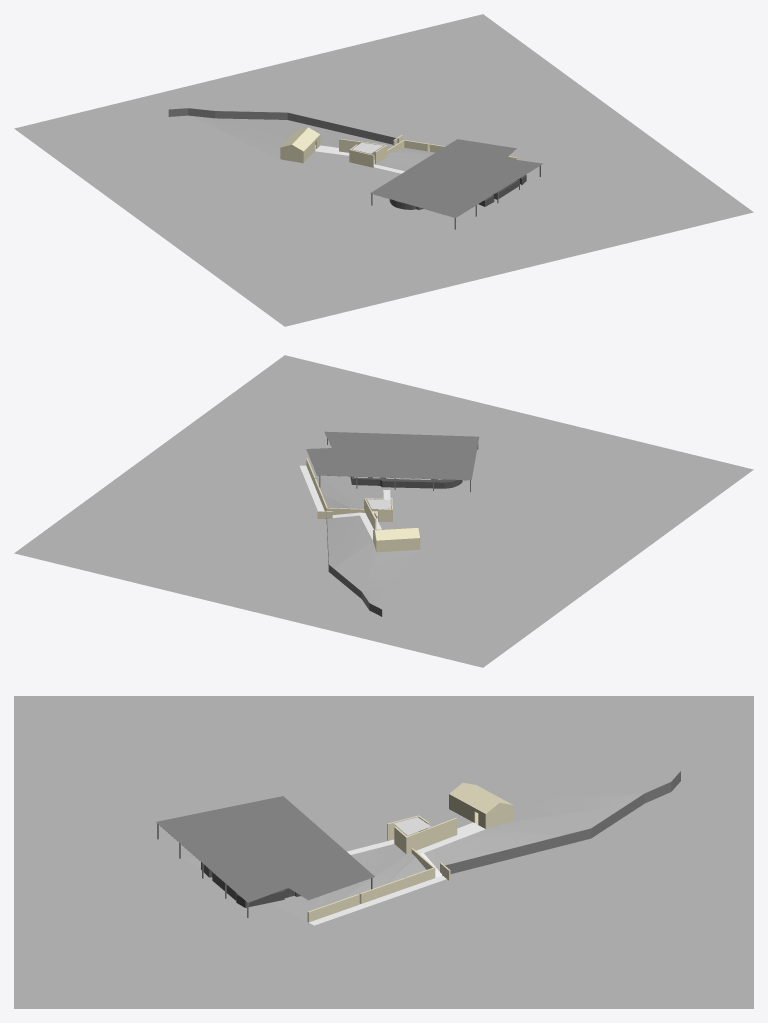
Rendered from ingresso.glb.
The picture shows the model from 3 angles, top to bottom: view 1: azimuth 30°, elevation 25°; view 2: azimuth 150°, elevation 25°; view 3: azimuth 270°, elevation 25°; orthographic projection. The views are drawn at different scales.
Parts seen in each view (by area): view 1: Template_Ground_Plane, Obj_006, Obj_004, Obj_034, Obj_038, Obj_036, Obj_037, Obj_035, Obj_026; view 2: Template_Ground_Plane, Obj_006, Obj_035, Obj_038, Obj_034, Obj_037, Obj_000001, Obj_029, Obj_036, Obj_028, Obj_022; view 3: Template_Ground_Plane, Obj_006, Obj_004, Obj_035, Obj_038, Obj_034, Obj_037, Obj_029, Obj_023, Obj_026, Obj_028, Obj_022 (+7 smaller).
Boxes of the visible parts, left/top/right/bottom form: Template_Ground_Plane: left=14, top=14, right=753, bottom=326; Obj_006: left=370, top=139, right=542, bottom=217; Obj_004: left=168, top=108, right=395, bottom=144; Obj_034: left=304, top=162, right=373, bottom=204; Obj_038: left=189, top=115, right=287, bottom=158; Obj_036: left=372, top=168, right=475, bottom=229; Obj_037: left=216, top=118, right=299, bottom=139; Obj_035: left=288, top=120, right=393, bottom=149; Obj_026: left=280, top=127, right=319, bottom=151; Template_Ground_Plane: left=14, top=355, right=753, bottom=667; Obj_006: left=306, top=431, right=479, bottom=480; Obj_035: left=327, top=515, right=372, bottom=568; Obj_038: left=363, top=550, right=419, bottom=604; Obj_034: left=393, top=492, right=470, bottom=535; Obj_037: left=334, top=541, right=376, bottom=593; Obj_000001: left=350, top=476, right=462, bottom=488; Obj_029: left=311, top=467, right=383, bottom=508; Obj_036: left=393, top=449, right=478, bottom=510; Obj_028: left=313, top=471, right=361, bottom=508; Obj_022: left=373, top=528, right=420, bottom=551; Template_Ground_Plane: left=14, top=696, right=753, bottom=1008; Obj_006: left=156, top=796, right=374, bottom=902; Obj_004: left=445, top=771, right=680, bottom=873; Obj_035: left=424, top=829, right=560, bottom=871; Obj_038: left=504, top=793, right=644, bottom=820; Obj_034: left=303, top=809, right=448, bottom=840; Obj_037: left=486, top=806, right=624, bottom=835; Obj_029: left=314, top=844, right=405, bottom=909; Obj_023: left=394, top=818, right=457, bottom=854; Obj_026: left=449, top=783, right=512, bottom=813; Obj_028: left=341, top=854, right=426, bottom=904; Obj_022: left=449, top=794, right=513, bottom=828.
Bounding box in the file's own units: 3.05 × 0.126 × 3.05.
